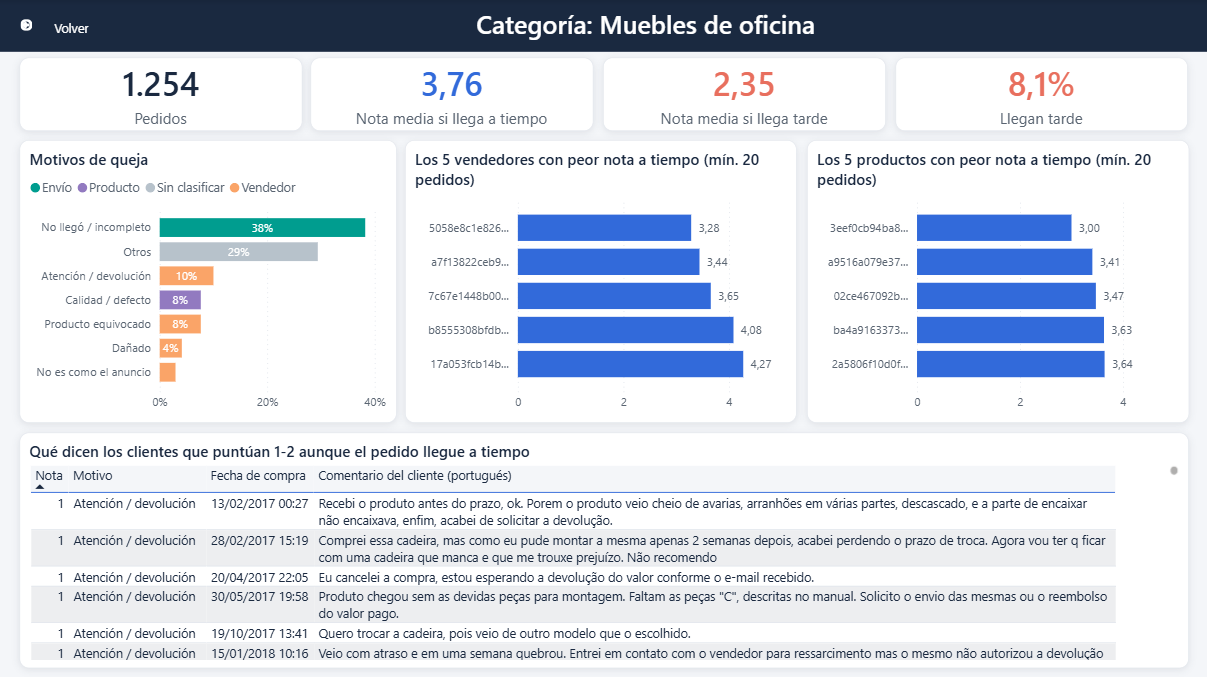

The page's visual inventory and layout, read from the dashboard file:
{"tool":"powerbi","page":{"name":"Detalle de categoría","canvas":[1280,720],"ordinal":4},"visuals":[{"type":"shape","box":[0,0,1280,56],"z":0},{"type":"card","fields":{"Values":["pedidos_limpios.Pedidos"]},"box":[20,62,300,78],"z":2000},{"type":"card","fields":{"Values":["pedidos_limpios.Nota a tiempo"]},"box":[330,62,300,78],"z":3000},{"type":"card","fields":{"Values":["pedidos_limpios.Nota con retraso"]},"box":[640,62,300,78],"z":4000},{"type":"card","fields":{"Values":["pedidos_limpios.% con retraso"]},"box":[950,62,310,78],"z":5000},{"type":"barChart","title":"Motivos de queja","fields":{"Category":["pedidos_limpios.motivo_queja"],"Series":["pedidos_limpios.responsable_queja"],"Y":["pedidos_limpios.% de las quejas"]},"box":[20,150,400,300],"z":6500},{"type":"clusteredBarChart","fields":{"Category":["vendedores.seller_id"],"Y":["pedidos_limpios.Nota a tiempo"]},"box":[430,150,415,300],"z":7000},{"type":"clusteredBarChart","fields":{"Category":["productos.product_id"],"Y":["pedidos_limpios.Nota a tiempo"]},"box":[855,150,405,300],"z":8000},{"type":"tableEx","title":"Qué dicen los clientes que puntúan 1-2 aunque el pedido llegue a tiempo","fields":{"Values":["pedidos_limpios.review_score","pedidos_limpios.motivo_queja","pedidos_limpios.order_purchase_timestamp","pedidos_limpios.review_comment_message"]},"box":[20,460,1240,250],"z":9000},{"type":"card","fields":{"Values":["pedidos_limpios.Categoría seleccionada"]},"box":[110,0,1150,55],"z":90000},{"type":"actionButton","box":[8,10,100,36],"z":90000}]}

Visuals, with their boxes in screenshot pixels (x1, y1, x2, y2), scaled from the page's 1280x720 canvas onto the 1207x677 screenshot:
shape: [0,0,1206,53]
card - pedidos_limpios.Pedidos: [19,58,302,132]
card - pedidos_limpios.Nota a tiempo: [311,58,594,132]
card - pedidos_limpios.Nota con retraso: [604,58,886,132]
card - pedidos_limpios.% con retraso: [896,58,1188,132]
"Motivos de queja" barChart: [19,141,396,423]
clusteredBarChart - vendedores.seller_id x pedidos_limpios.Nota a tiempo: [405,141,797,423]
clusteredBarChart - productos.product_id x pedidos_limpios.Nota a tiempo: [806,141,1188,423]
"Qué dicen los clientes que puntúan 1-2 aunque el pedido llegue a tiempo" tableEx: [19,433,1188,668]
card - pedidos_limpios.Categoría seleccionada: [104,0,1188,52]
actionButton: [8,9,102,43]
